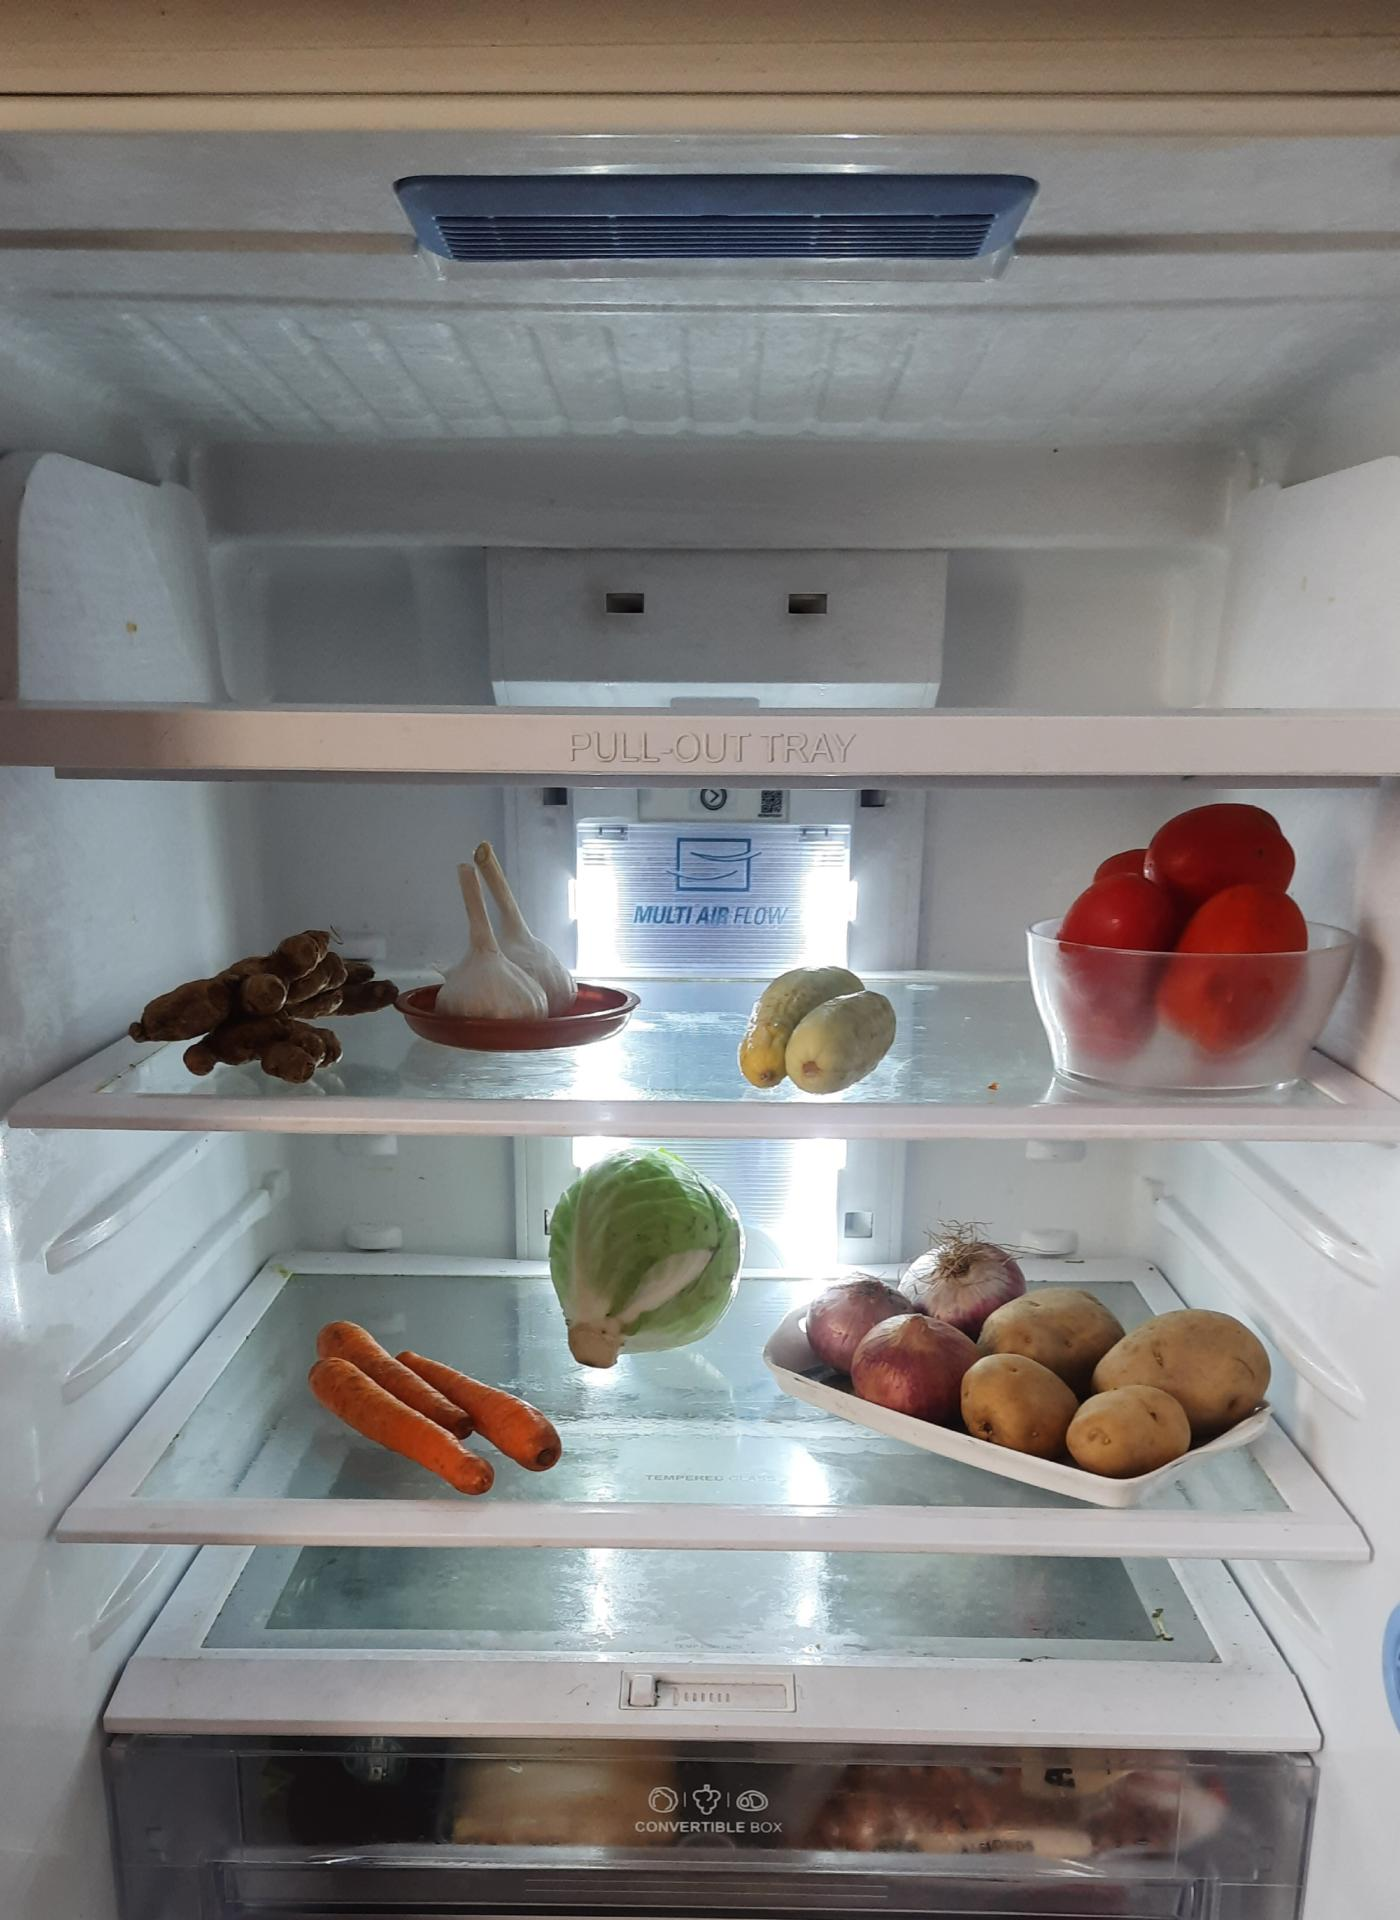cabbage: (522, 1152, 768, 1392)
carrots: (262, 1279, 565, 1519)
cucumber: (695, 961, 956, 1108)
garlic: (453, 817, 644, 1075)
ginger: (115, 921, 450, 1094)
onion: (775, 1219, 1030, 1450)
potato: (978, 1285, 1273, 1503)
tomato: (1039, 803, 1331, 1029)
